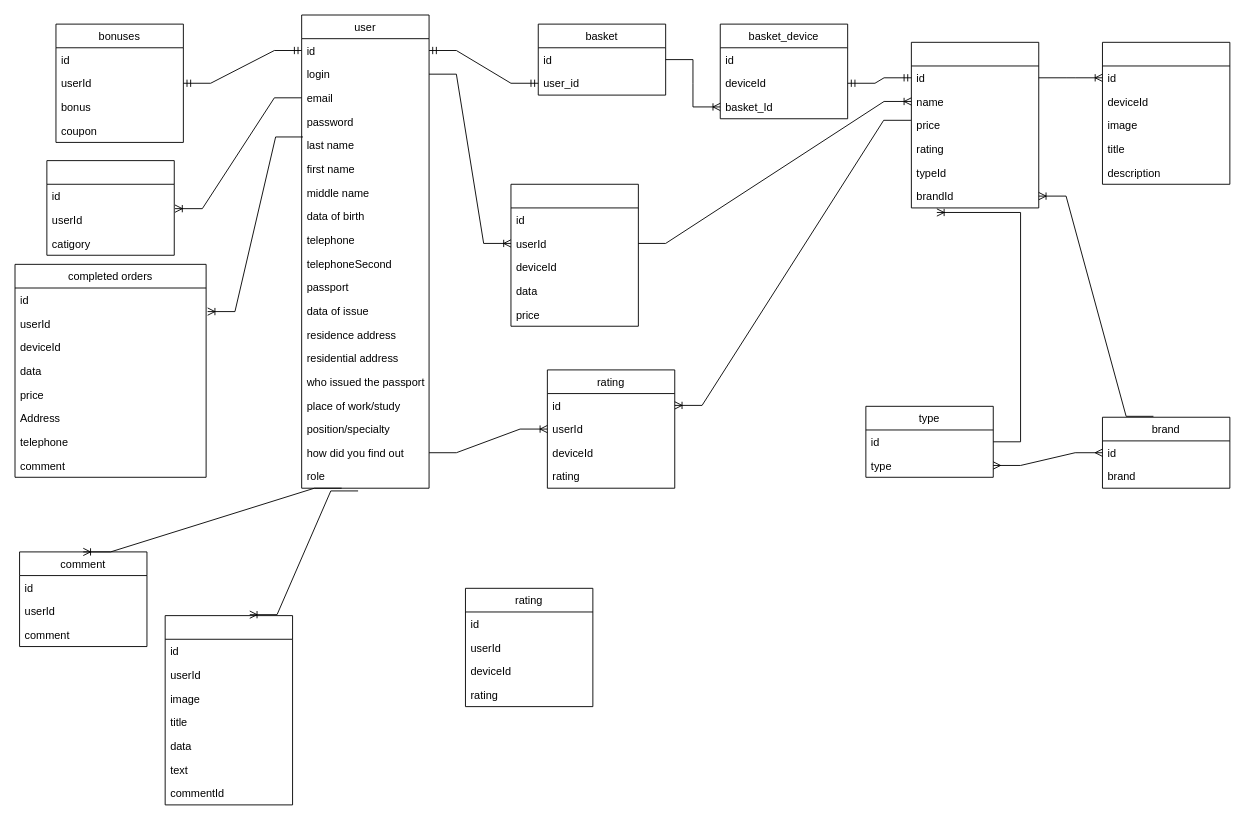
The diagram is 1245 pixels wide and 820 high, and some of its shapes have lost their labels. Here are the shapes that lost their labels. From the top down, the box of each, then its label:
(910, 41, 1039, 208): device
(1102, 41, 1230, 184): device_info
(46, 160, 174, 255): catigories
(510, 183, 638, 326): order history
(164, 615, 293, 805): posts
